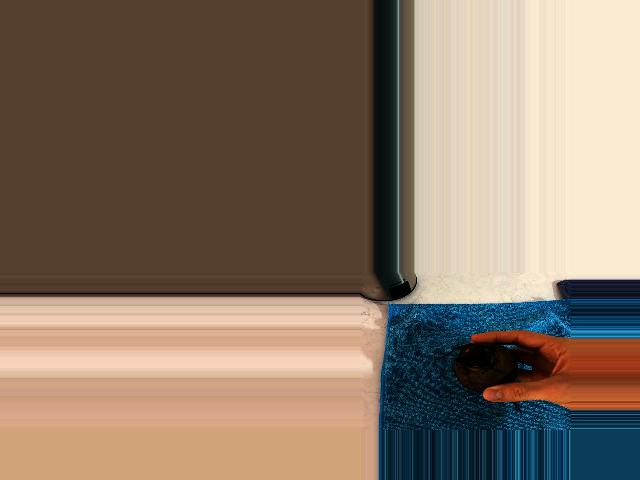beet: (434, 343, 521, 414)
